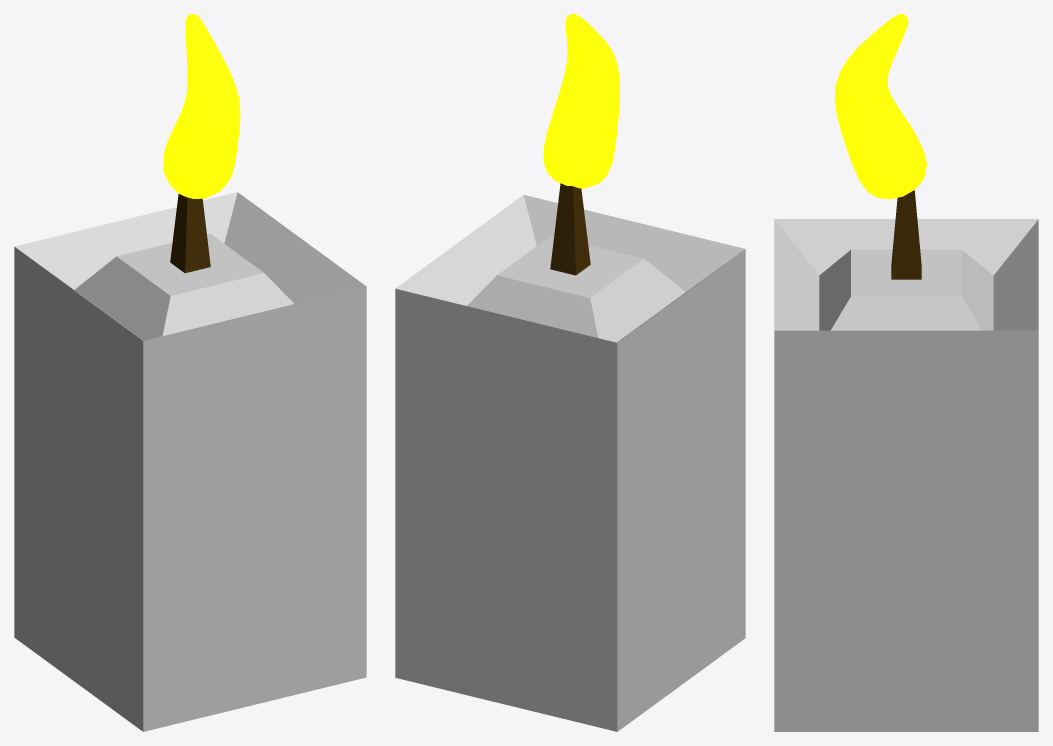
Rendered from Candle.fbx.
3 views of the same model, side by side, from view 1: azimuth 30°, elevation 25°; view 2: azimuth 150°, elevation 25°; view 3: azimuth 270°, elevation 25° (orthographic). The views are drawn at different scales.
Parts seen in each view (by area): view 1: Cube, Cube.001; view 2: Cube, Cube.001; view 3: Cube, Cube.001.
Part boxes in pixels (<box>): Cube: <box>14,192,366,731</box>; Cube.001: <box>163,14,240,198</box>; Cube: <box>395,183,745,731</box>; Cube.001: <box>543,14,619,188</box>; Cube: <box>774,190,1038,731</box>; Cube.001: <box>834,14,926,199</box>.
Size of the model in its own units: 59.11 by 163 by 59.11.
